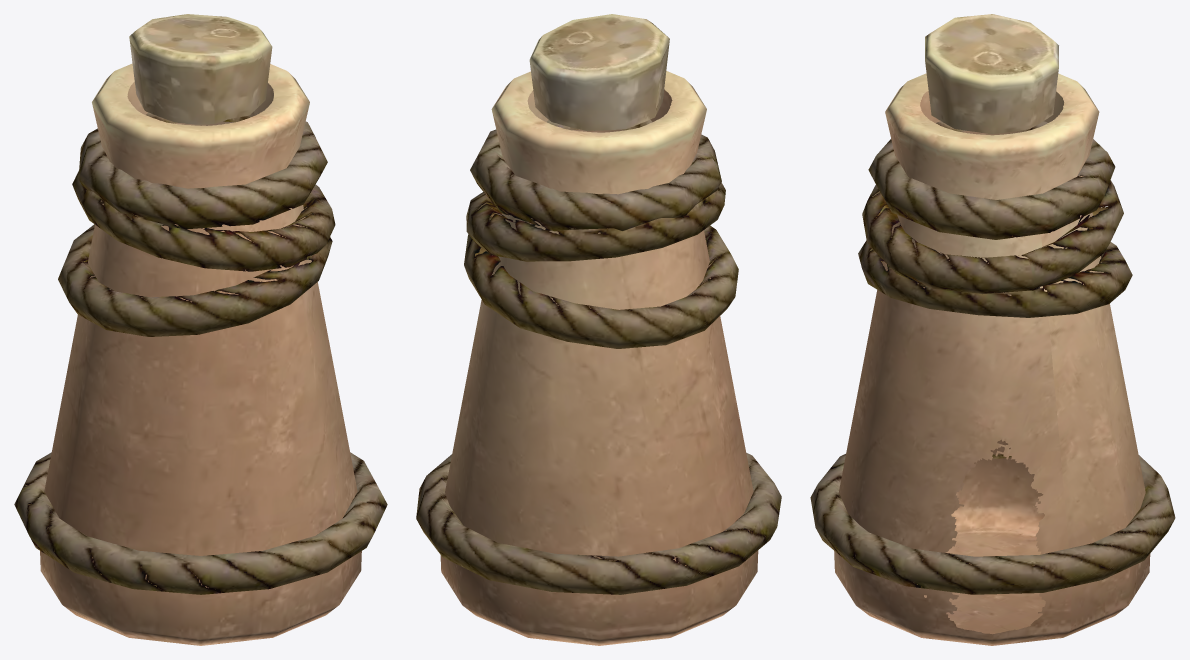
3 renders of one model, left to right at view 1: azimuth 30°, elevation 25°; view 2: azimuth 150°, elevation 25°; view 3: azimuth 270°, elevation 25°, orthographic.
Visible parts, largest first — view 1: SM_CraftingBench_Pot_01_LOD0; view 2: SM_CraftingBench_Pot_01_LOD0; view 3: SM_CraftingBench_Pot_01_LOD0.
Part boxes in pixels (<box>): SM_CraftingBench_Pot_01_LOD0: <box>14,14,387,645</box>; SM_CraftingBench_Pot_01_LOD0: <box>416,14,781,645</box>; SM_CraftingBench_Pot_01_LOD0: <box>810,14,1175,645</box>.
Size of the model in its own units: 0.1896 by 0.3158 by 0.1911.
Materials: 1 (1 with a texture image).
